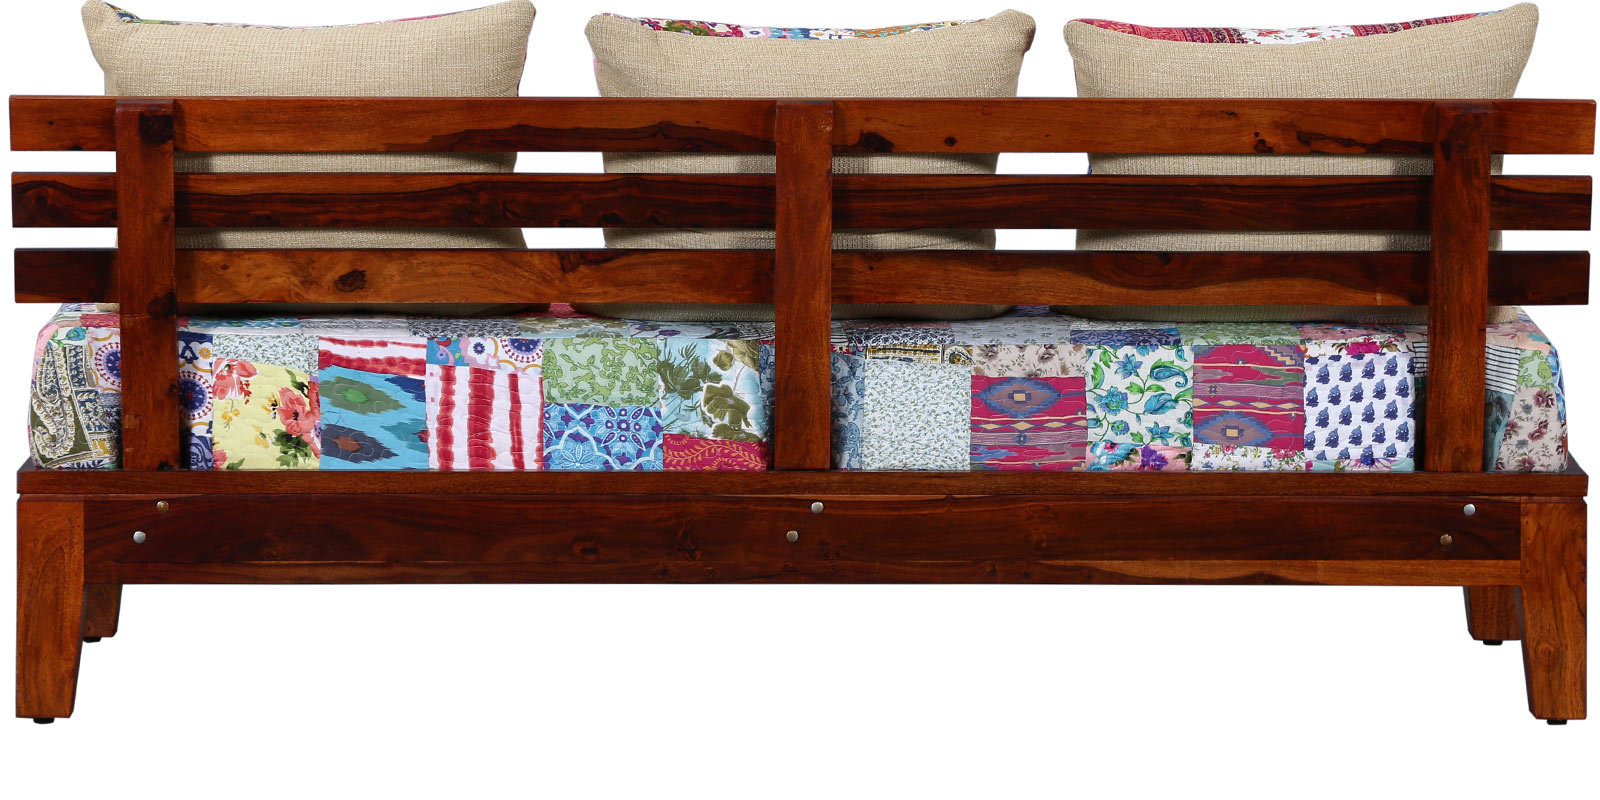Hayden Three Seater Sofa in Honey Oak Finish by Bohemiana: (5, 1, 1600, 743)
